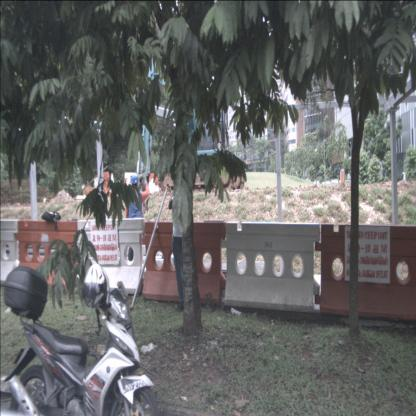barrier: (314, 224, 416, 322), (221, 220, 321, 314), (141, 219, 227, 306), (76, 217, 144, 295), (14, 219, 78, 294), (0, 218, 20, 286)
